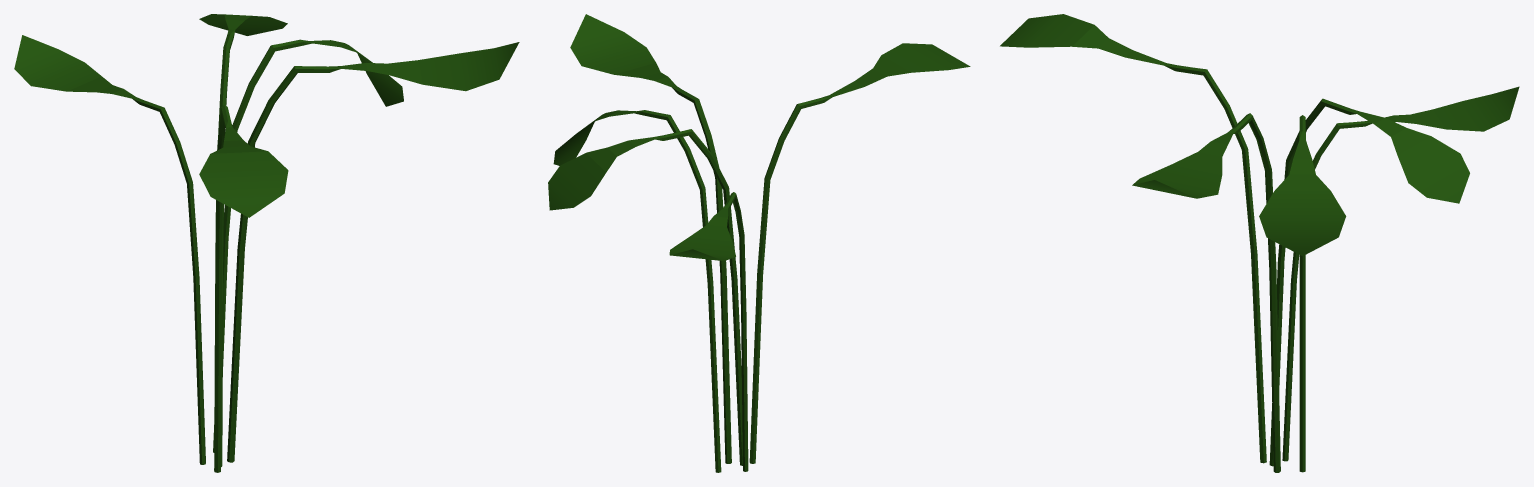
Rendered from SM_GroundLeavesPatch.fbx.
3 renders of one model, left to right at view 1: azimuth 30°, elevation 25°; view 2: azimuth 150°, elevation 25°; view 3: azimuth 270°, elevation 25°, orthographic. The views are drawn at different scales.
Parts seen in each view (by area): view 1: SM_GroundLeavesPatch; view 2: SM_GroundLeavesPatch; view 3: SM_GroundLeavesPatch.
Part boxes in pixels (<box>): SM_GroundLeavesPatch: <box>14,14,519,472</box>; SM_GroundLeavesPatch: <box>548,14,970,472</box>; SM_GroundLeavesPatch: <box>1000,14,1519,472</box>.
Bounding box in the file's own units: 34.46 × 42.75 × 36.16.
